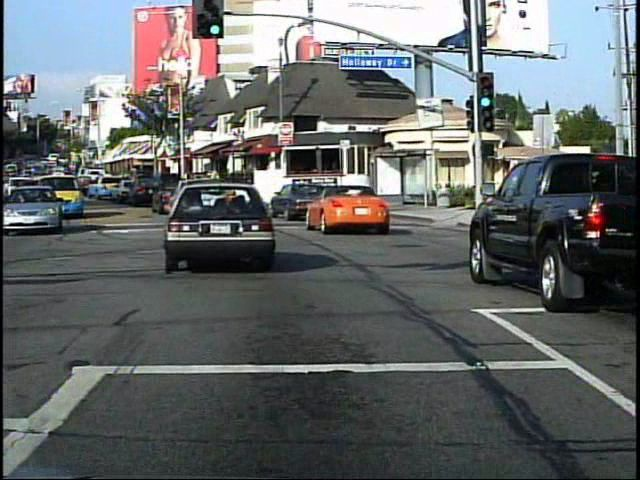person: (574, 187, 598, 248)
